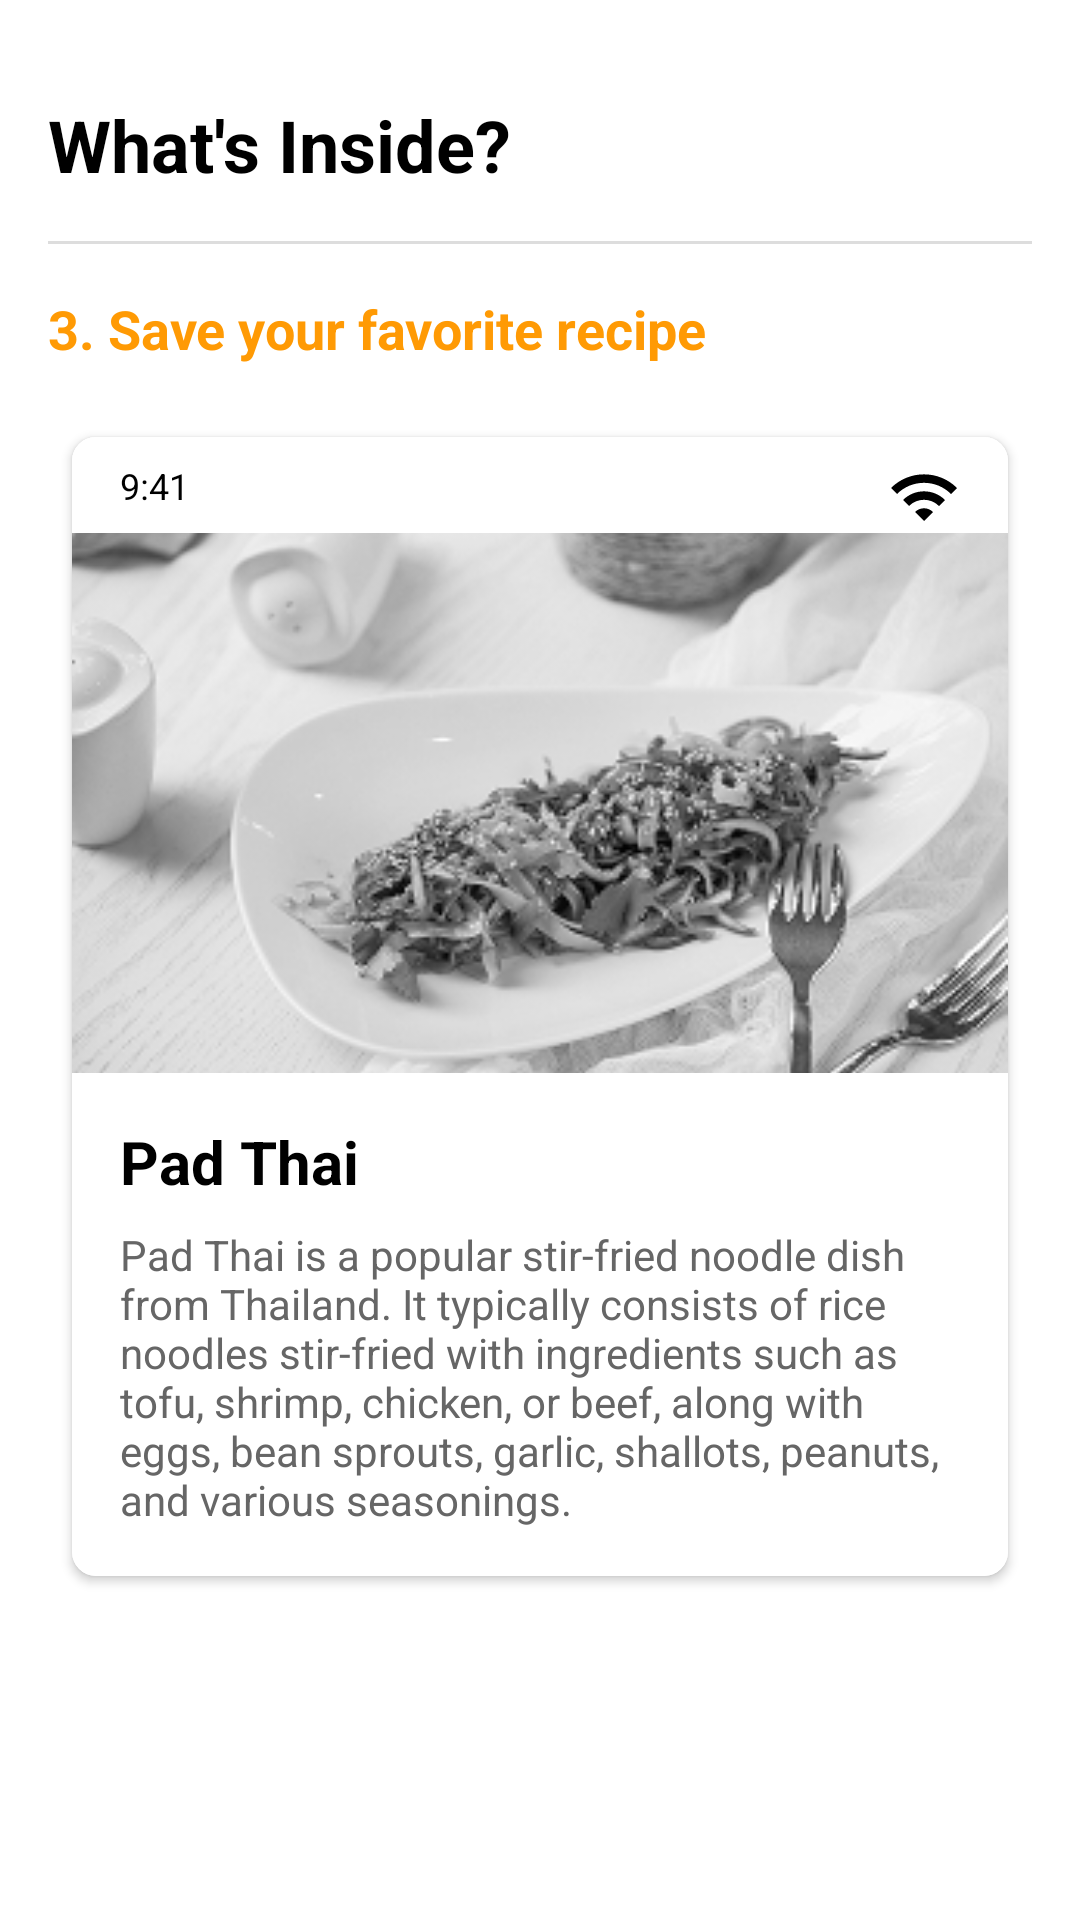

Icons on this 1080px×1920px Android screen, each with the point to tap as (x=x, y=y):
signal wifi: (x=924, y=497)
